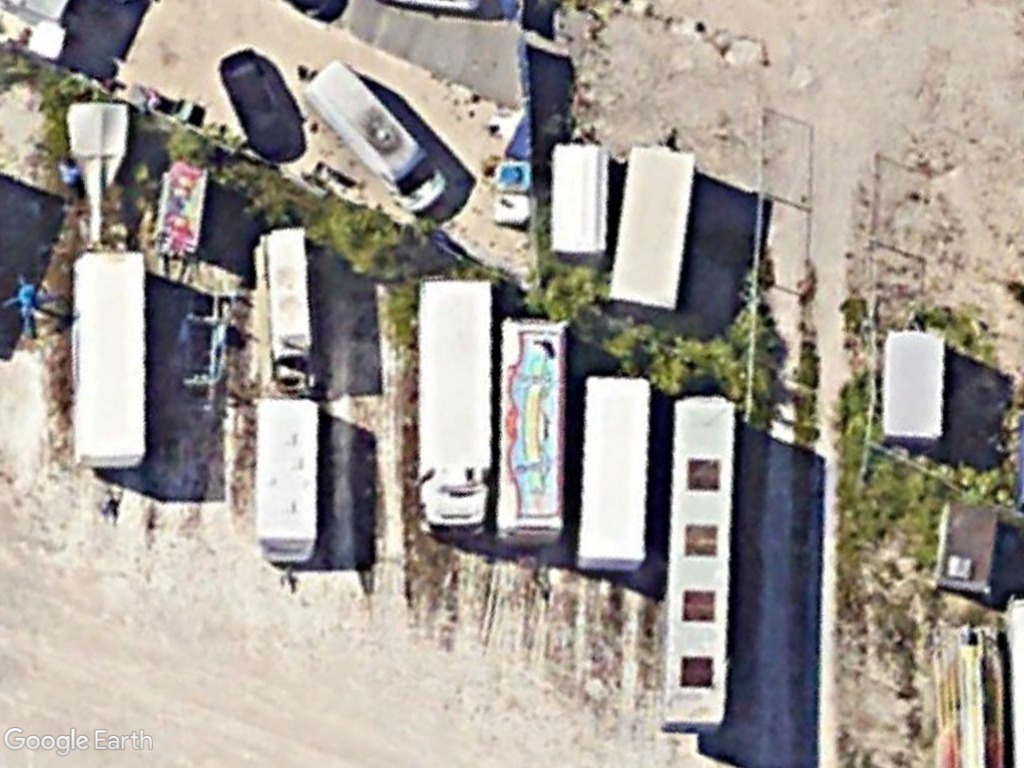truck: (417, 273, 493, 535)
van: (300, 59, 453, 214)
